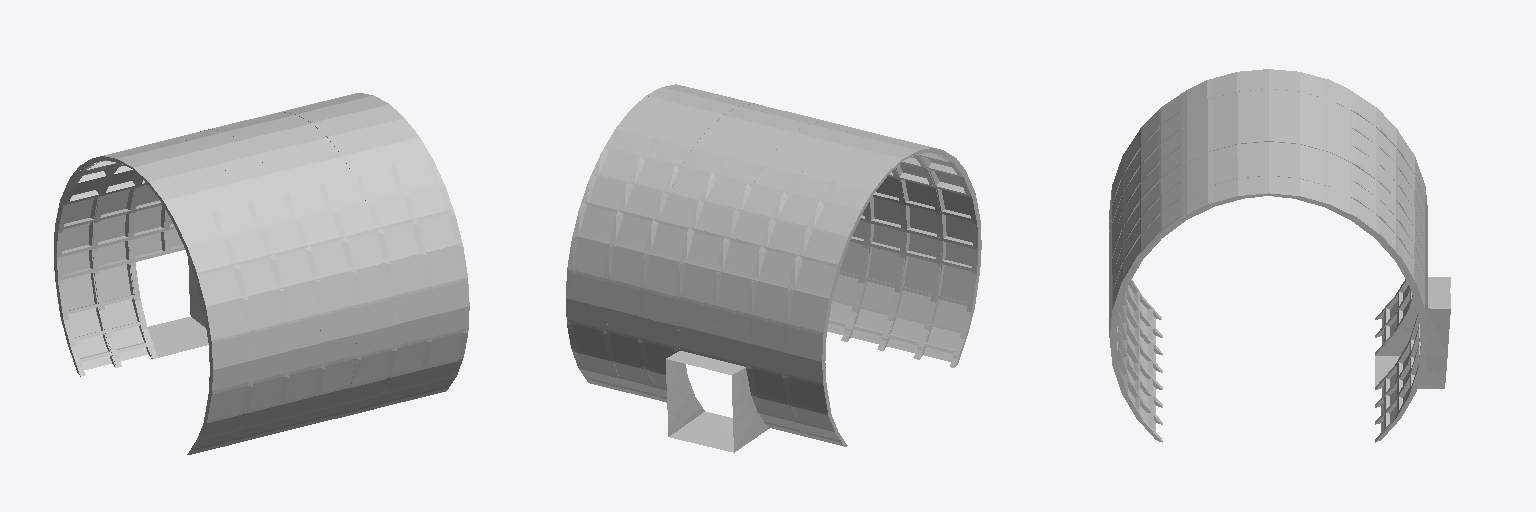
File: TonnelTehPR.obj
3 renders of one model, left to right at view 1: azimuth 30°, elevation 25°; view 2: azimuth 150°, elevation 25°; view 3: azimuth 270°, elevation 25°, orthographic.
Parts seen in each view (by area): view 1: cilindre.006; view 2: cilindre.006; view 3: cilindre.006.
Boxes of the visible parts, x1,y1,x2,y2 form: cilindre.006: [54, 93, 469, 454]; cilindre.006: [566, 84, 981, 452]; cilindre.006: [1109, 69, 1450, 442].
Bounding box in the file's own units: 1.87 × 1.73 × 2.15.